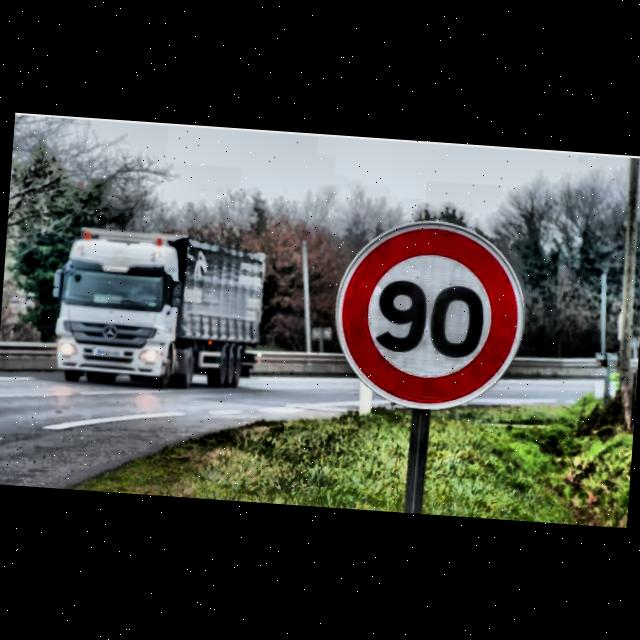speed_90: (324, 213, 530, 418)
